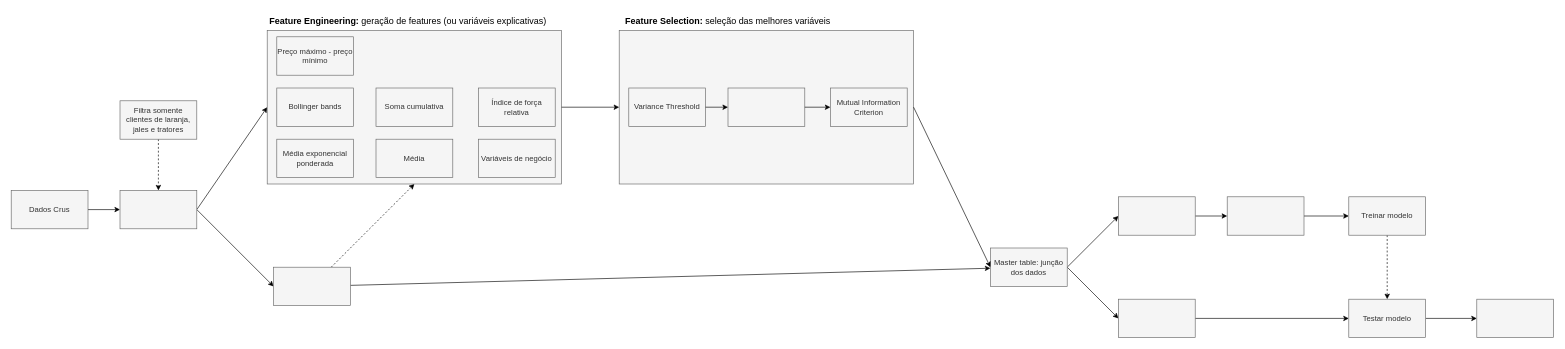
Some shapes in this 1565 by 349 pixel diagram are drawn without their labels. The shapes that lost their labels are listed below. From the top down, each one's box as (x1, y1, x2, y2) in pixels, then its label:
(727, 87, 805, 126): Variance Inflation Factor
(119, 190, 197, 229): Dados Padronizados
(1118, 196, 1195, 235): Dados de treino
(1227, 196, 1304, 235): Balanceamento do target: técnica SMOTE
(273, 267, 350, 306): Target (Variável alvo)
(1118, 299, 1195, 338): Dados de teste
(1476, 299, 1554, 338): Avaliar modelo
